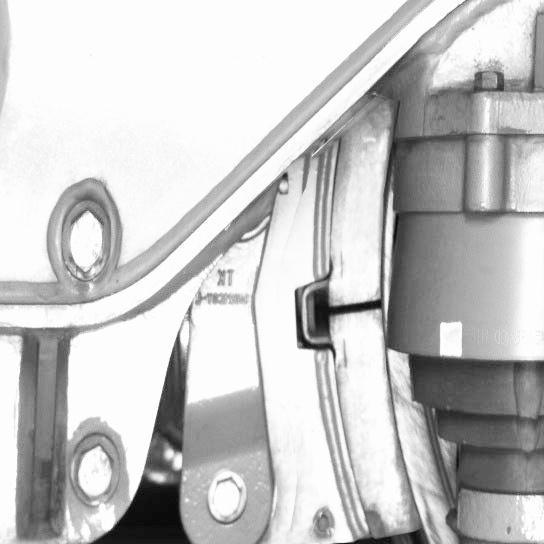ClosedKnifeSwitch: (315, 135, 438, 541)
